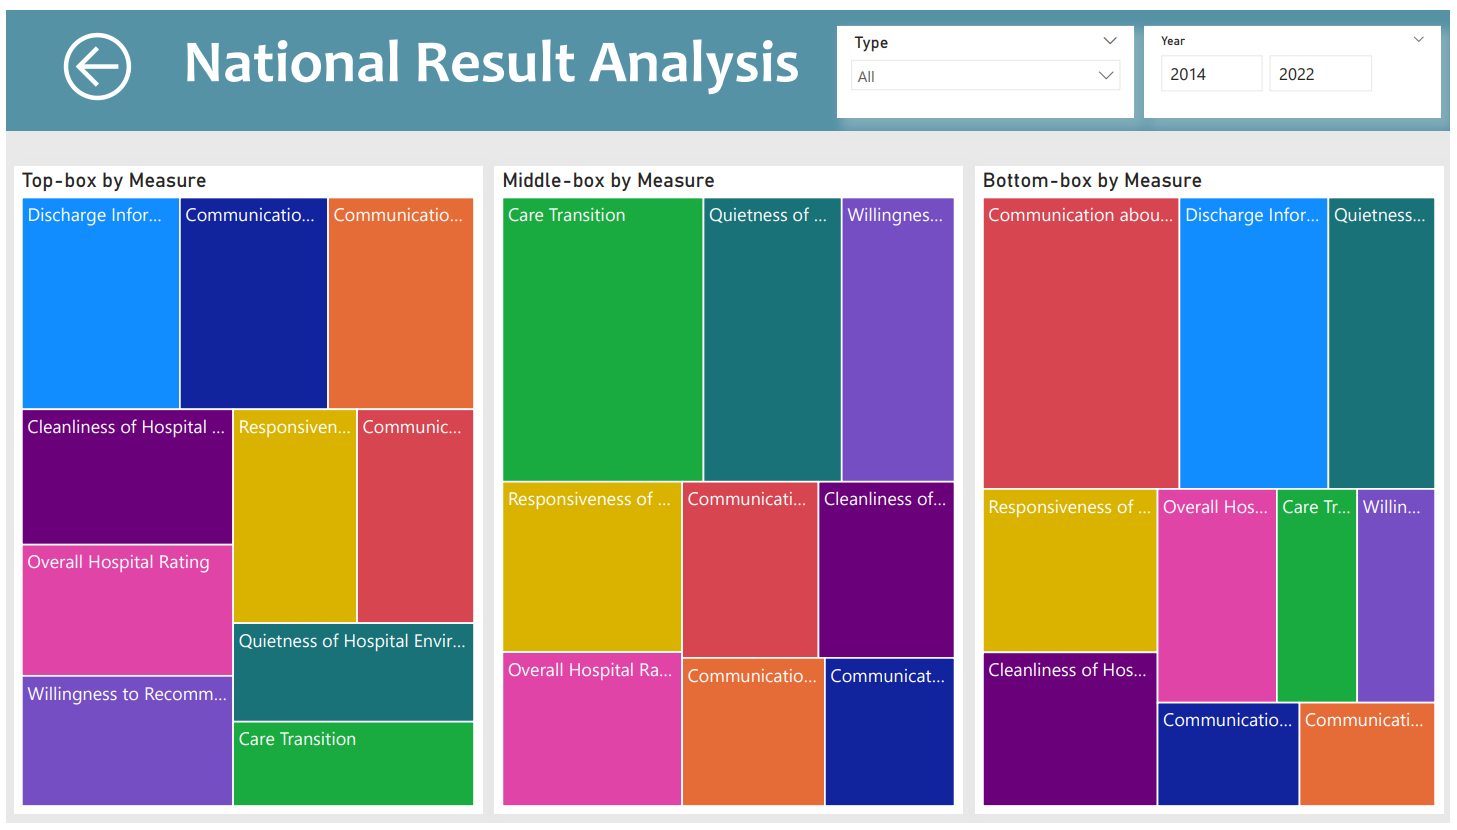

Layout of this report page (visuals, bound fields, positions):
{"tool":"powerbi","page":{"name":"National Result Analysis","canvas":[1280,720],"ordinal":2},"visuals":[{"type":"treemap","title":"Top-box by Measure","fields":{"Values":["Avg(state_results.Top-box Percentage)"],"Group":["measures (2).Measure"]},"box":[7,138,415,573.6],"z":0},{"type":"treemap","title":"Middle-box  by Measure","fields":{"Values":["Sum(state_results.Middle-box Percentage)"],"Group":["measures (2).Measure"]},"box":[433,138,415,573.6],"z":1000},{"type":"treemap","title":"Bottom-box by Measure","fields":{"Values":["Sum(state_results.Bottom-box Percentage)"],"Group":["measures (2).Measure"]},"box":[859,138,415,573.6],"z":2000},{"type":"textbox","box":[0,0,1280.3,107],"z":3000},{"type":"slicer","fields":{"Values":["measures (2).Type"]},"box":[737,14,263.5,81],"z":4000},{"type":"slicer","fields":{"Values":["reports.End Date.Variation.Date Hierarchy.Year"]},"box":[1009,14,263.5,81],"z":5000},{"type":"actionButton","box":[44,13.5,97.8,73.4],"z":6000}]}

Visuals, with their boxes in screenshot pixels (x1, y1, x2, y2), scaled from the page's 1280x720 canvas onto the 1457x830 screenshot:
"Top-box by Measure" treemap: [x1=8, y1=159, x2=480, y2=820]
"Middle-box  by Measure" treemap: [x1=493, y1=159, x2=965, y2=820]
"Bottom-box by Measure" treemap: [x1=978, y1=159, x2=1450, y2=820]
textbox: [x1=0, y1=0, x2=1456, y2=123]
slicer - measures (2).Type: [x1=839, y1=16, x2=1139, y2=110]
slicer - reports.End Date.Variation.Date Hierarchy.Year: [x1=1149, y1=16, x2=1448, y2=110]
actionButton: [x1=50, y1=16, x2=161, y2=100]
